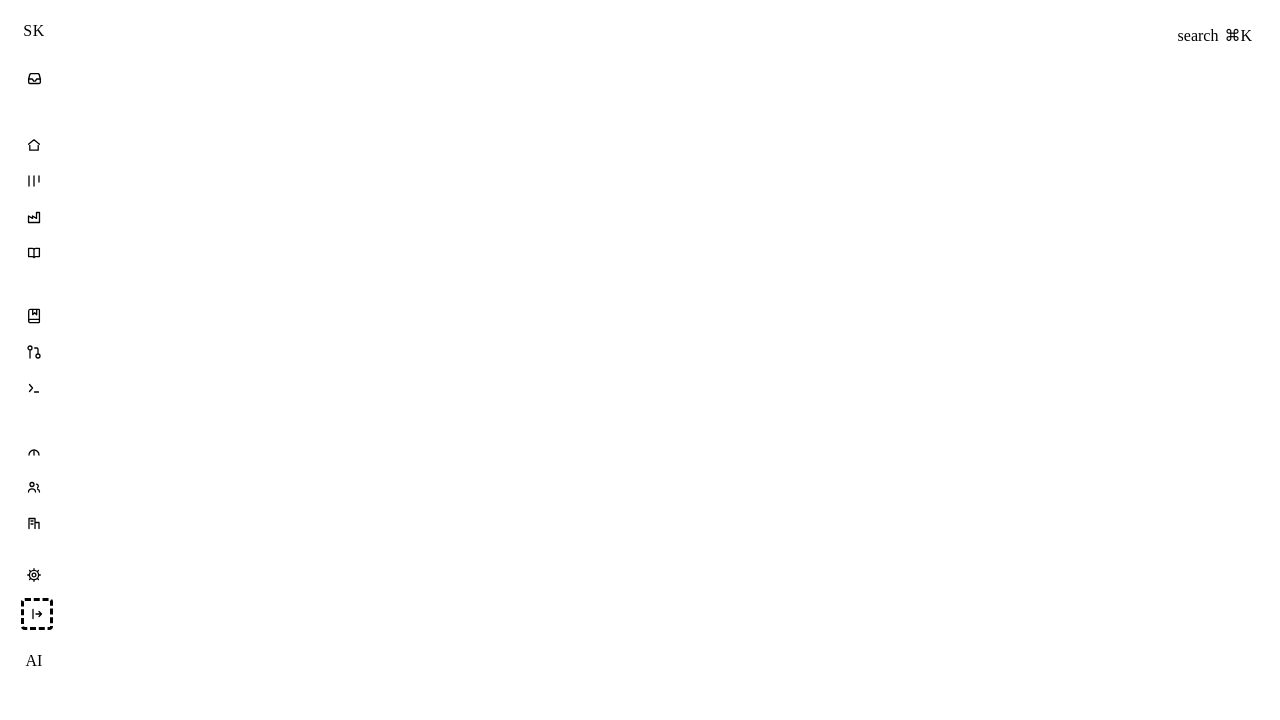
Scenario: Shell — the identity panel is a readout with one verb › carries no appearance control — that setting lives on the settings page
The image size is (1280, 720).
What coordinates should you click on to do the following:
click the button with class "sh-me"
I would click on:
 (34, 660)
Its box is [26,652,42,668].
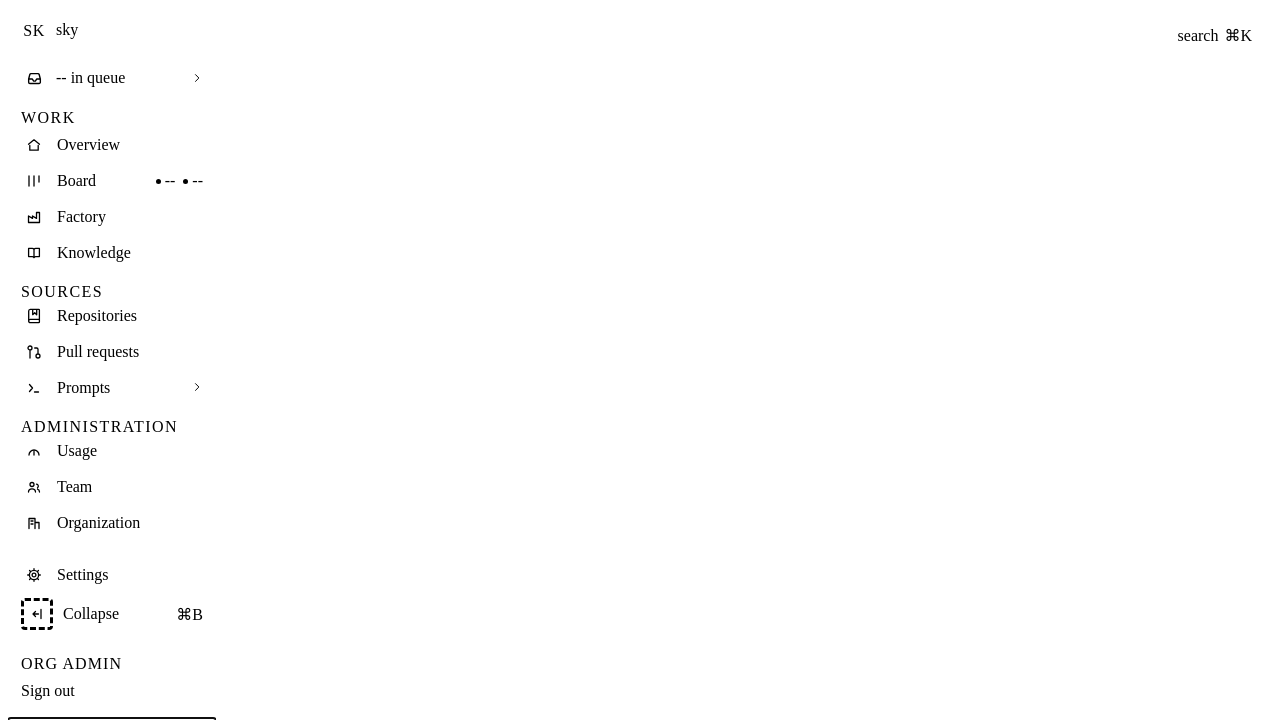
Expected: the button "Sign out" is shown, [21,682,75,699]
